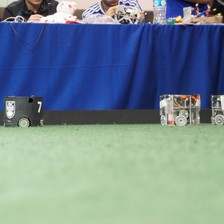robot: (156, 91, 204, 127), (1, 93, 45, 129), (207, 91, 224, 128)
